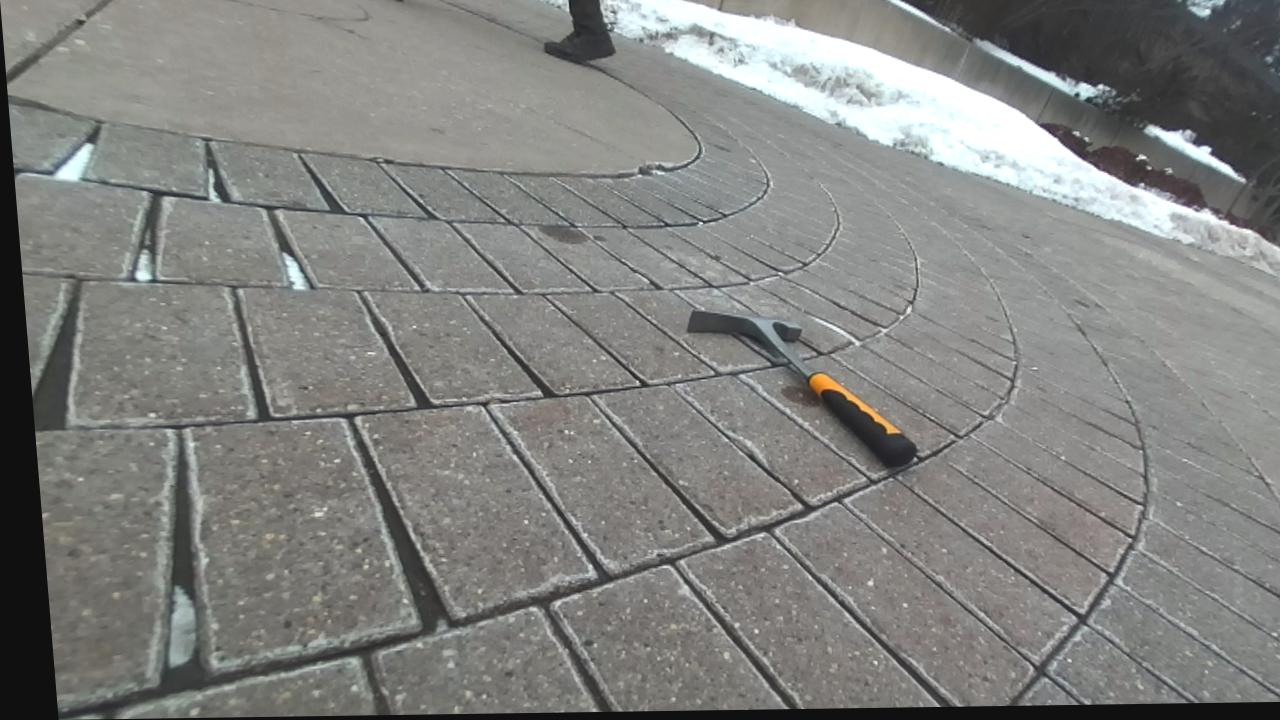pick: (688, 310, 916, 467)
